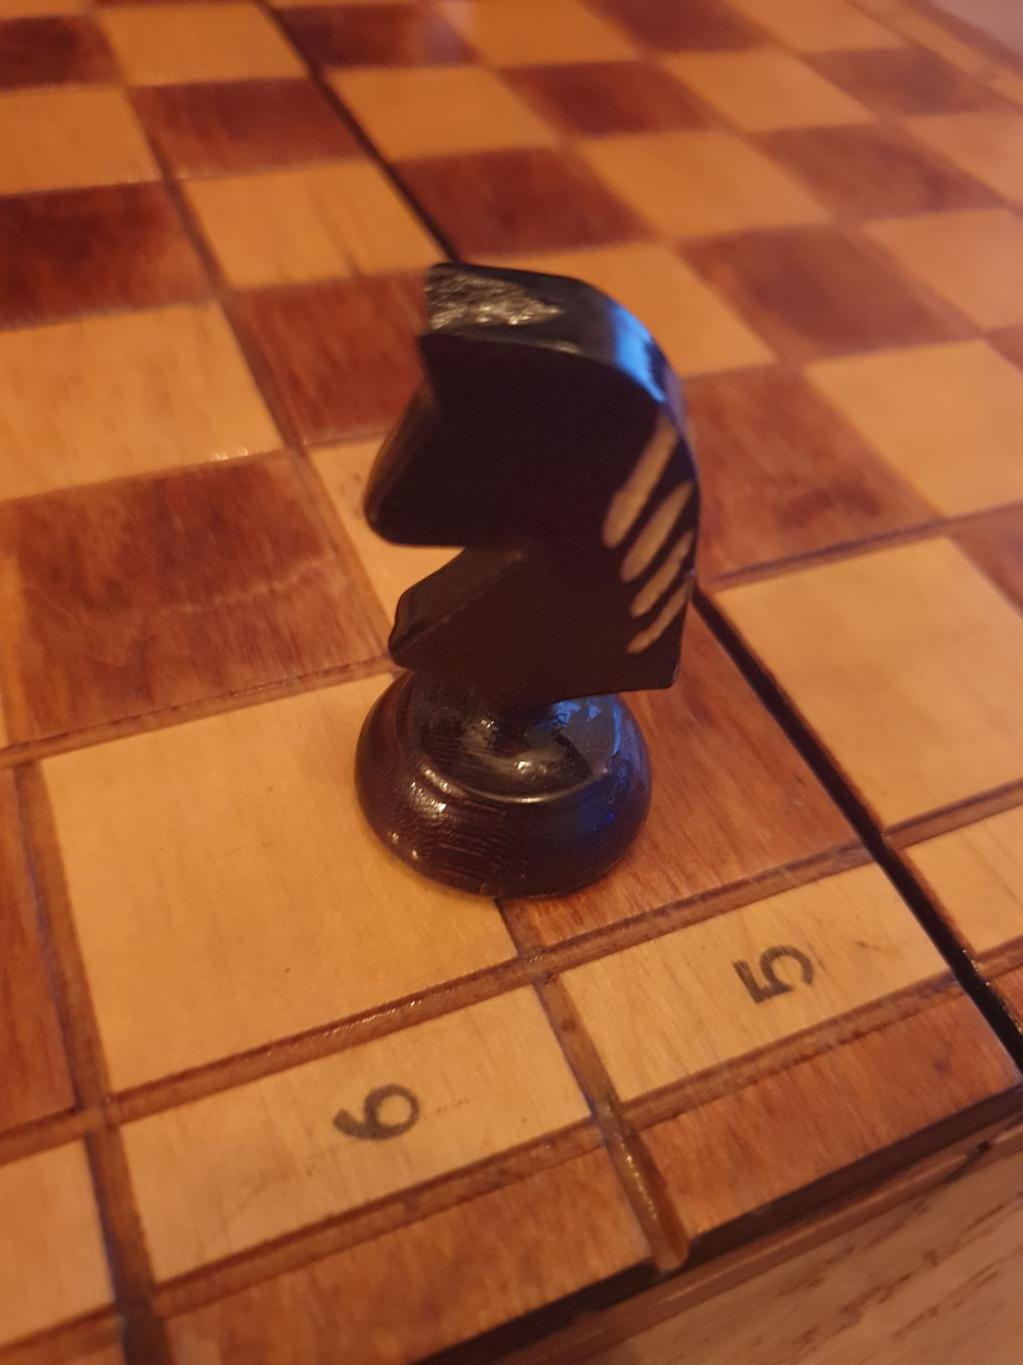bknight: (352, 258, 703, 900)
